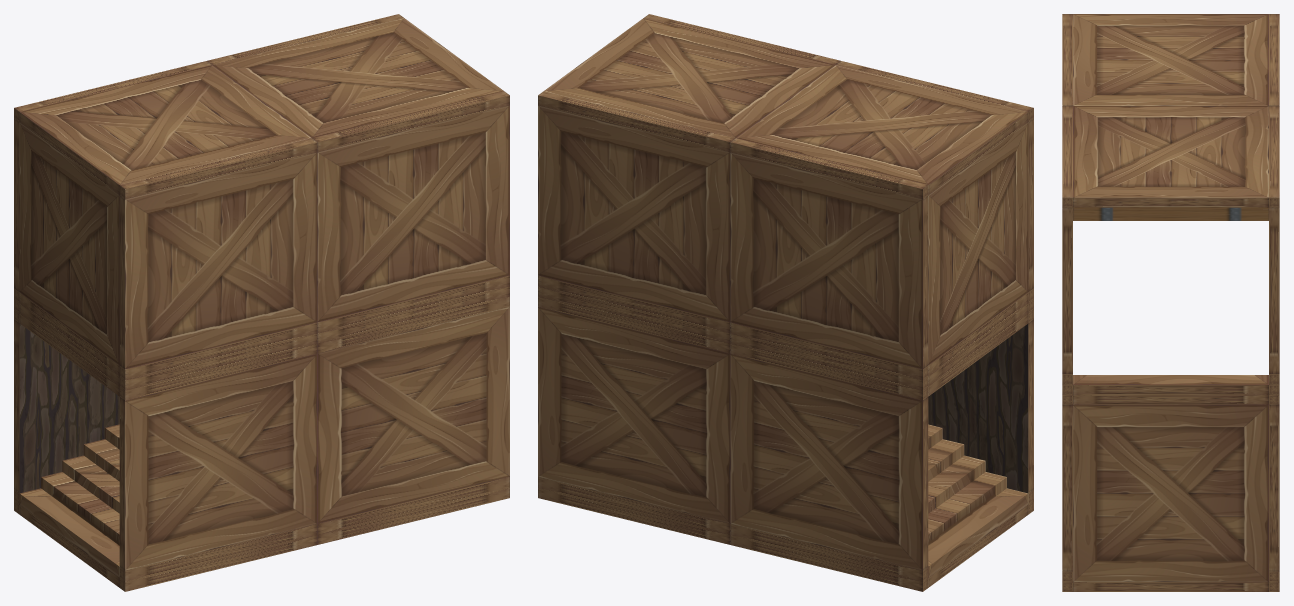
The model's file is stairs.glb.
3 views of the same model, side by side, from view 1: azimuth 30°, elevation 25°; view 2: azimuth 150°, elevation 25°; view 3: azimuth 270°, elevation 25° (orthographic). The views are drawn at different scales.
Parts seen in each view (by area): view 1: stairs; view 2: stairs; view 3: stairs.
Part boxes in pixels (<box>): stairs: <box>14,14,509,591</box>; stairs: <box>538,14,1033,591</box>; stairs: <box>1062,14,1279,591</box>.
Bounding box in the file's own units: 2 × 2 × 1.
1 material, 1 textured.
